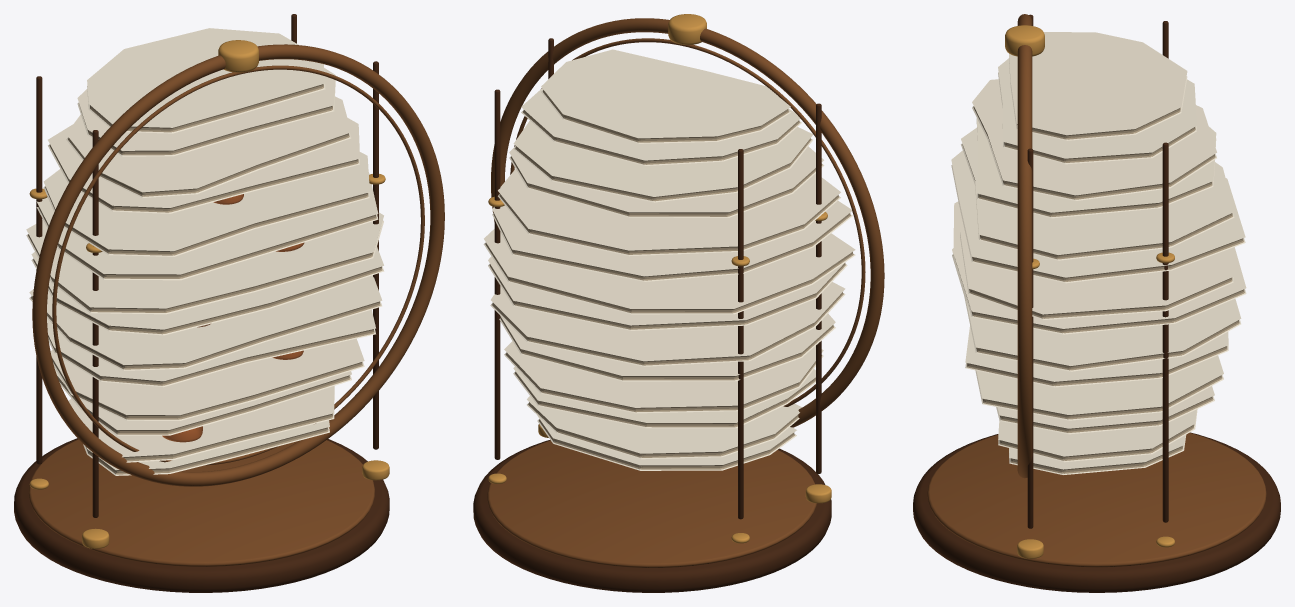
File: archive.glb
The picture shows the model from 3 angles, left to right: view 1: azimuth 30°, elevation 25°; view 2: azimuth 150°, elevation 25°; view 3: azimuth 270°, elevation 25°; orthographic projection. The views are drawn at different scales.
Visible parts, largest first — view 1: base_inlay, ring_outer, page_14, page_10, base_disk, page_08, page_06, page_04, page_12, page_09, page_11, page_07 (+10 smaller); view 2: base_inlay, page_14, page_10, page_08, page_06, base_disk, ring_outer, page_12, page_04, page_09, page_02, page_11 (+10 smaller); view 3: base_inlay, page_14, base_disk, page_10, page_08, page_12, page_06, page_09, page_04, ring_outer, page_13, page_11 (+8 smaller).
Boxes of the visible parts, left/top/right/bottom form: base_inlay: left=28, top=439, right=374, bottom=566; ring_outer: left=32, top=44, right=444, bottom=486; page_14: left=87, top=28, right=325, bottom=133; page_10: left=43, top=152, right=369, bottom=256; base_disk: left=14, top=438, right=389, bottom=592; page_08: left=26, top=212, right=383, bottom=314; page_06: left=29, top=275, right=382, bottom=370; page_04: left=50, top=338, right=364, bottom=420; page_12: left=66, top=96, right=351, bottom=197; page_09: left=36, top=172, right=378, bottom=280; page_11: left=48, top=118, right=359, bottom=213; page_07: left=31, top=247, right=384, bottom=335; base_inlay: left=487, top=440, right=816, bottom=567; page_14: left=541, top=49, right=790, bottom=143; page_10: left=498, top=169, right=840, bottom=256; page_08: left=483, top=229, right=855, bottom=314; page_06: left=490, top=282, right=845, bottom=366; base_disk: left=473, top=440, right=831, bottom=592; ring_outer: left=491, top=18, right=884, bottom=427; page_12: left=513, top=121, right=813, bottom=202; page_04: left=504, top=341, right=823, bottom=413; page_09: left=492, top=201, right=852, bottom=281; page_02: left=527, top=396, right=801, bottom=459; page_11: left=509, top=146, right=824, bottom=217; base_inlay: left=927, top=432, right=1266, bottom=567; page_14: left=1009, top=32, right=1187, bottom=140; base_disk: left=913, top=432, right=1280, bottom=592; page_10: left=961, top=127, right=1234, bottom=260; page_08: left=960, top=213, right=1233, bottom=319; page_12: left=972, top=79, right=1216, bottom=200; page_06: left=952, top=248, right=1241, bottom=371; page_09: left=951, top=150, right=1245, bottom=283; page_04: left=975, top=355, right=1223, bottom=420; ring_outer: left=1017, top=14, right=1032, bottom=478; page_13: left=998, top=58, right=1196, bottom=164; page_11: left=976, top=118, right=1216, bottom=218.
Size of the model in its own units: 4.19 by 4.84 by 3.32.
